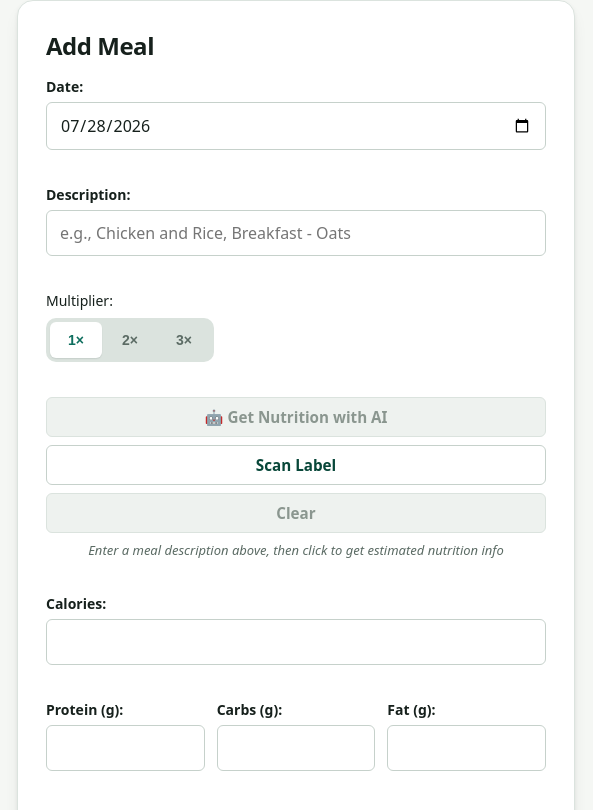
Test case: MealForm › Meal Search Autocomplete › displays suggestions when search returns results
Type "chicken" into the field labelled "Description:" at (296, 233), box [46, 210, 546, 256]
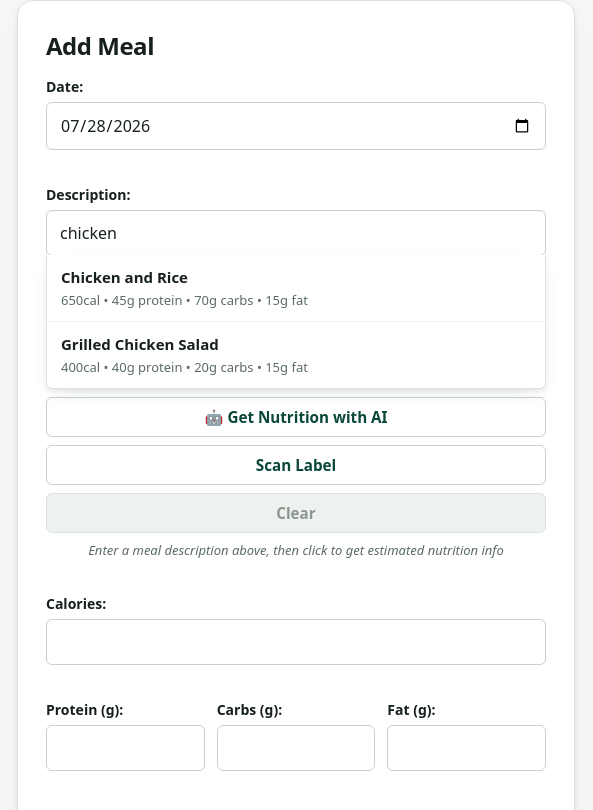
Expected: the element with test id "meal-suggestions" is shown, [46, 255, 546, 389]
Expected: the text "Chicken and Rice" is shown, [61, 267, 188, 287]
Expected: the text "Grilled Chicken Salad" is shown, [61, 334, 219, 354]
